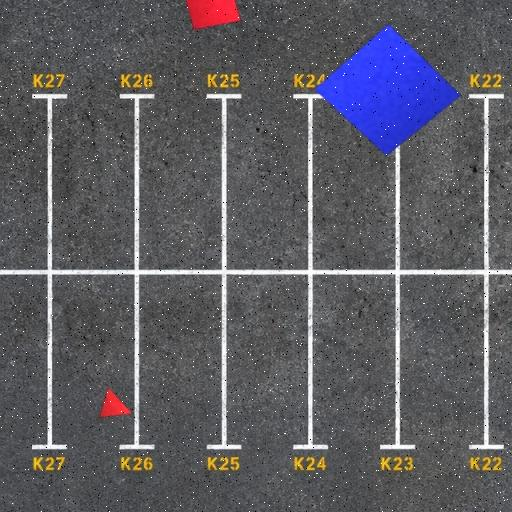BLUE_SQUARE: (312, 23, 462, 157)
RED_SQUARE: (181, 0, 241, 30)
